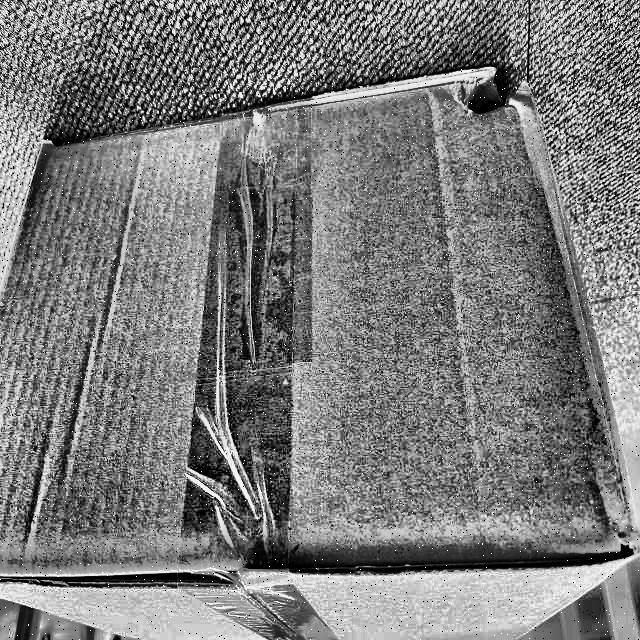box: (0, 65, 640, 640)
hole: (454, 62, 532, 132)
